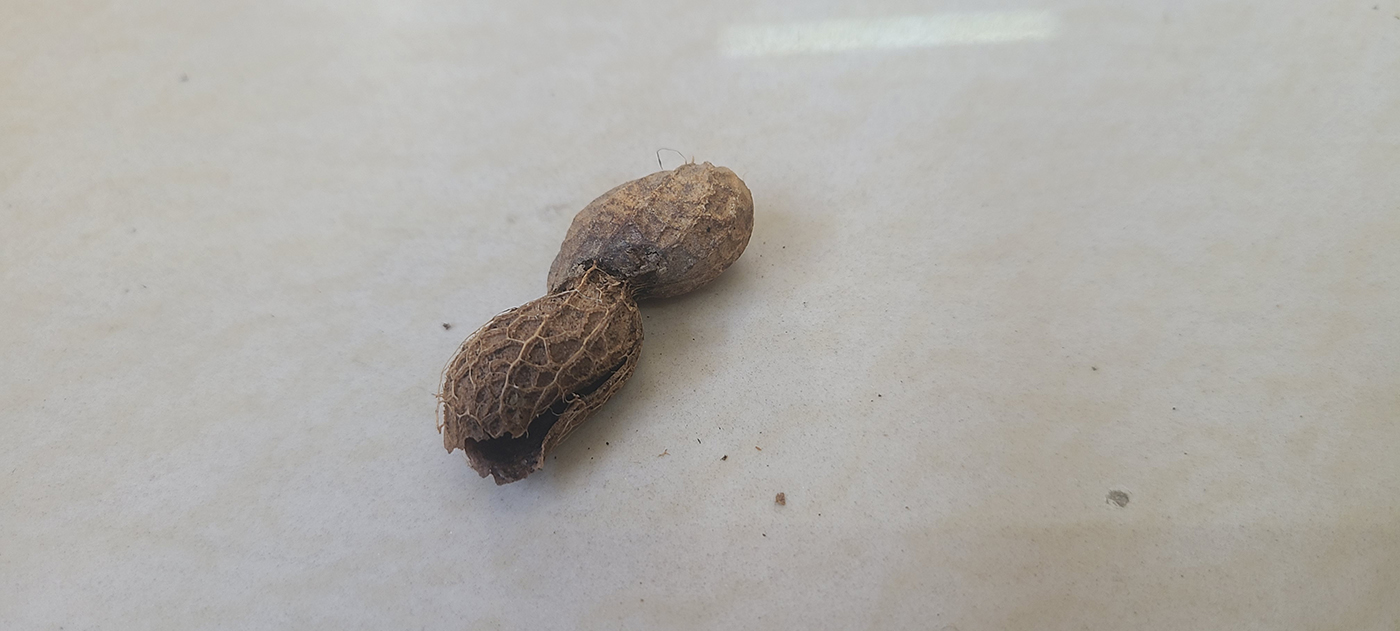l: (434, 165, 754, 482)
